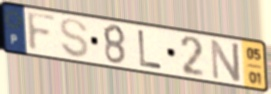2: (178, 35, 207, 79)
8: (102, 23, 128, 66)
F: (25, 10, 59, 54)
L: (136, 28, 164, 71)
N: (209, 37, 243, 84)
S: (58, 17, 91, 60)
